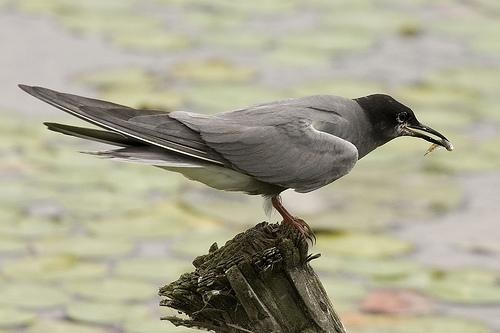bird: (13, 82, 449, 235)
